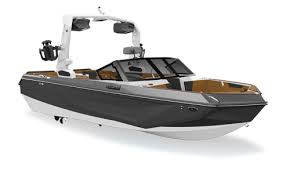boat: (18, 7, 269, 141)
